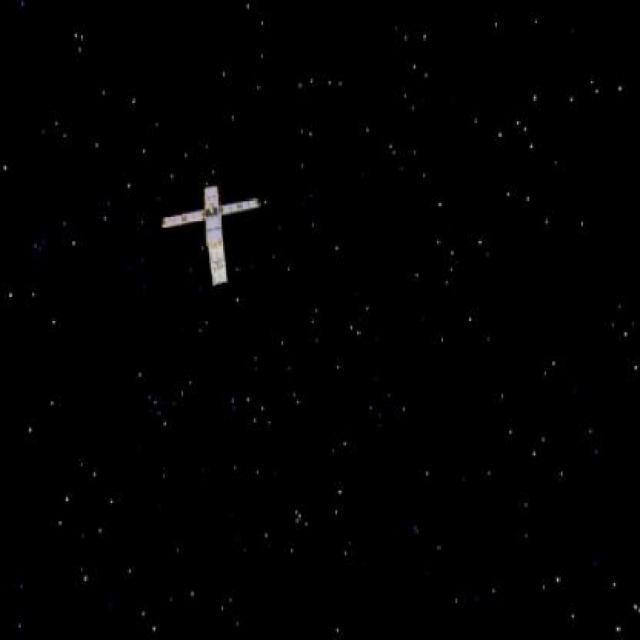medium_debris: (152, 167, 283, 300)
